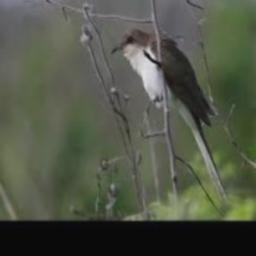Cuckoo: (111, 27, 229, 204)
